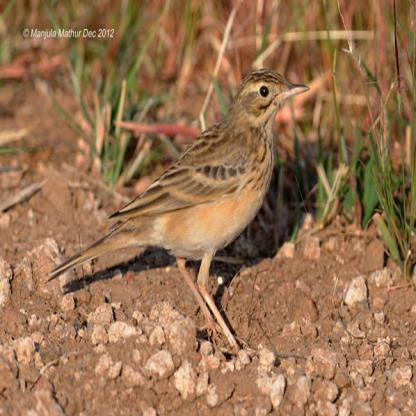Burung: (46, 68, 309, 344)
